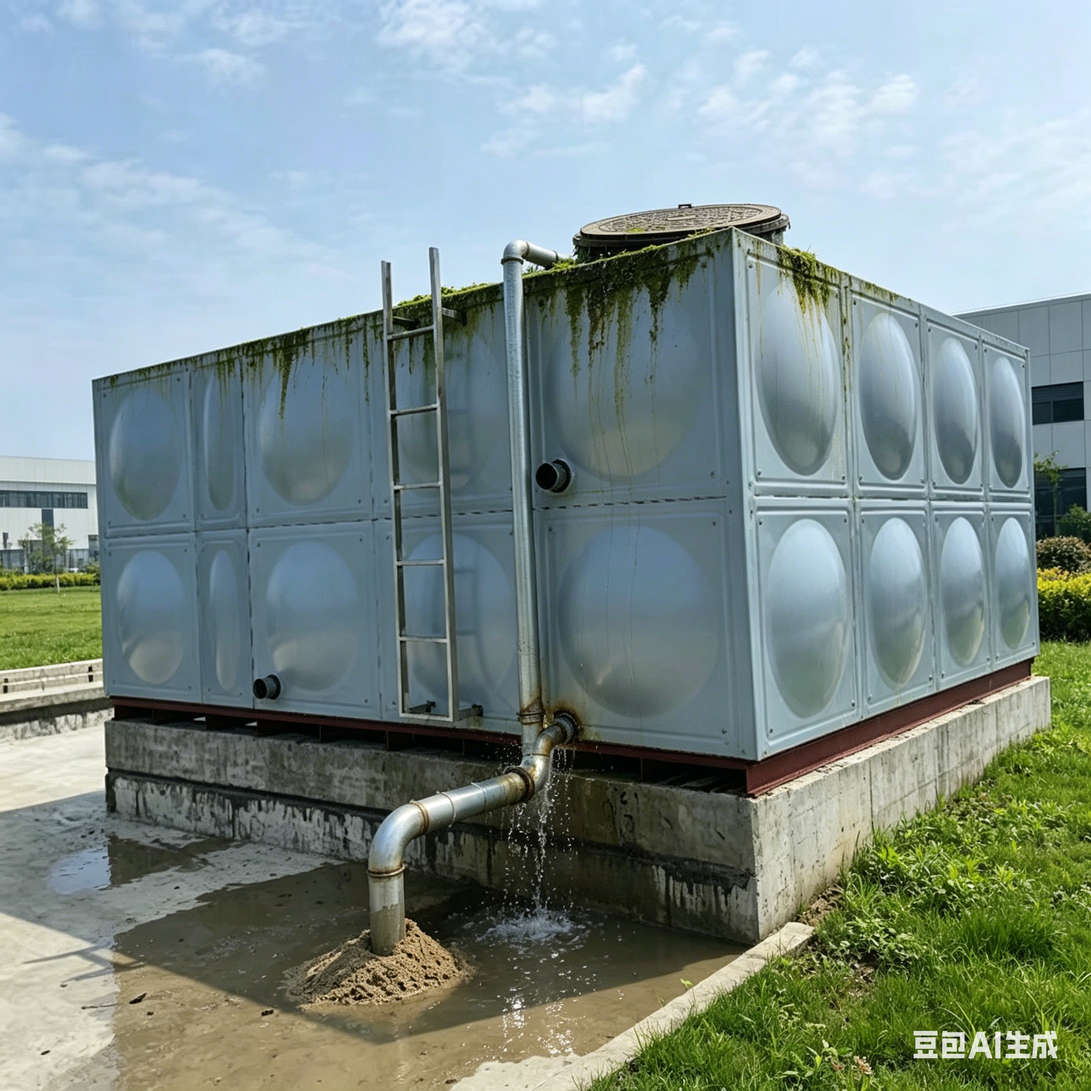Leakage: (122, 925, 493, 1087), (505, 714, 604, 1049), (748, 219, 951, 373), (367, 255, 728, 341), (263, 844, 465, 921), (620, 888, 732, 1013), (14, 824, 193, 898)
